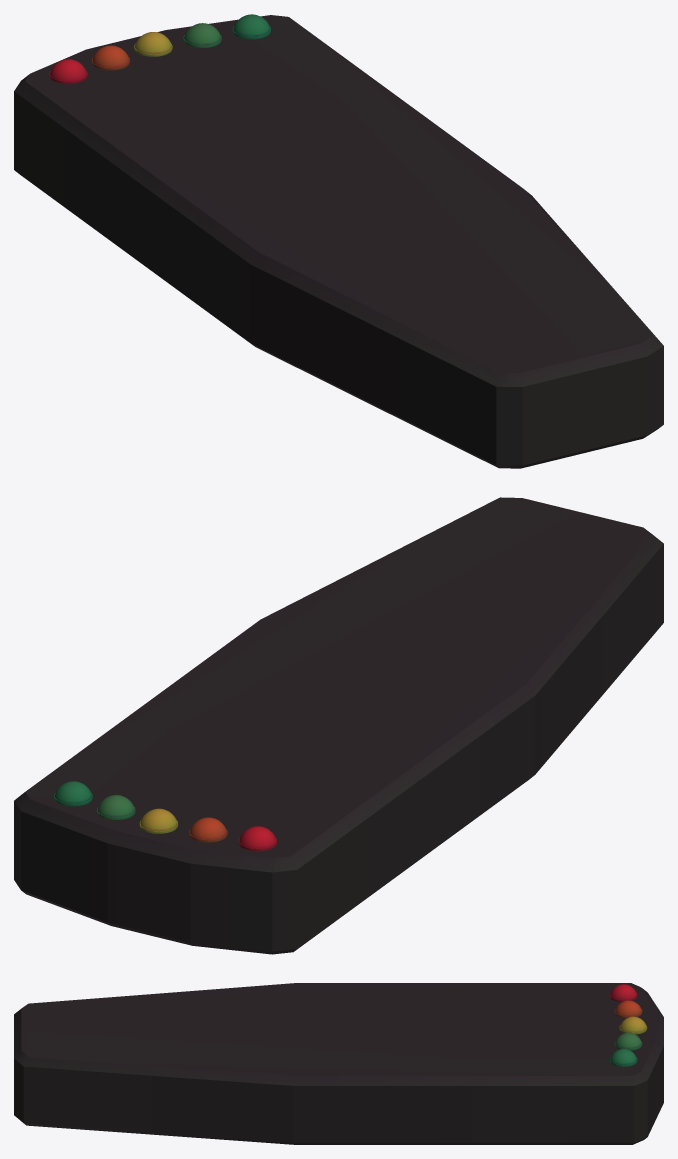
The picture shows the model from 3 angles, top to bottom: view 1: azimuth 30°, elevation 25°; view 2: azimuth 150°, elevation 25°; view 3: azimuth 270°, elevation 25°; orthographic projection. The views are drawn at different scales.
Parts seen in each view (by area): view 1: housing, lamp_base.004, lamp_base.001, lamp_base.002, lamp_base.003, lamp_base; view 2: housing, lamp_base, lamp_base.001, lamp_base.002, lamp_base.004, lamp_base.003; view 3: housing, lamp_base.004, lamp_base, lamp_base.001, lamp_base.002, lamp_base.003.
Part boxes in pixels (x1,y1,x2,y2): housing: (14,15,663,468); lamp_base.004: (232,14,270,39); lamp_base.001: (92,45,129,70); lamp_base.002: (134,32,172,56); lamp_base.003: (183,23,221,47); lamp_base: (49,59,87,83); housing: (14,497,663,954); lamp_base: (238,826,277,851); lamp_base.001: (189,817,227,842); lamp_base.002: (139,808,178,833); lamp_base.004: (54,781,92,806); lamp_base.003: (97,795,135,819); housing: (14,983,663,1144); lamp_base.004: (610,1049,637,1066); lamp_base: (610,984,637,1002); lamp_base.001: (614,1000,642,1018); lamp_base.002: (619,1016,647,1034); lamp_base.003: (614,1032,642,1050).
Size of the model in its own units: 0.0722 by 0.0266 by 0.2.
